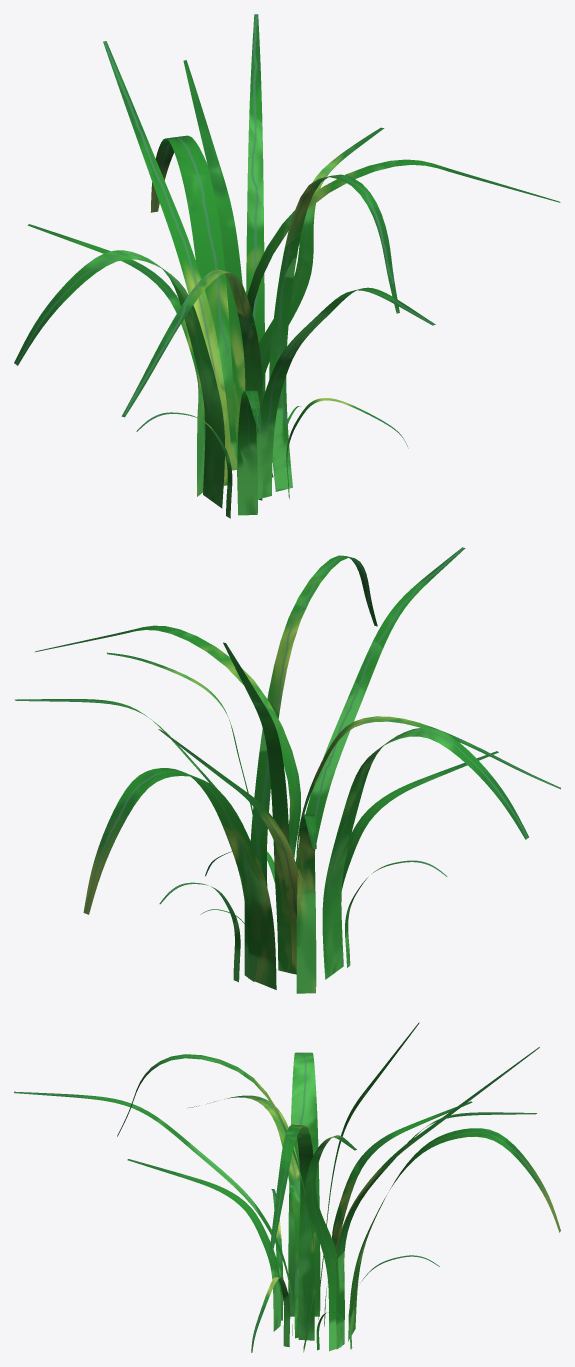
File: shrub txt.fbx
The picture shows the model from 3 angles, top to bottom: view 1: azimuth 30°, elevation 25°; view 2: azimuth 150°, elevation 25°; view 3: azimuth 270°, elevation 25°; orthographic projection. The views are drawn at different scales.
Visible parts, largest first — view 1: polySurface105; view 2: polySurface105; view 3: polySurface105.
Part boxes in pixels (bbox=[...]): polySurface105: bbox=[14, 14, 560, 518]; polySurface105: bbox=[14, 547, 560, 993]; polySurface105: bbox=[14, 1022, 560, 1352].
Bounding box in the file's own units: 123 × 86.61 × 135.
